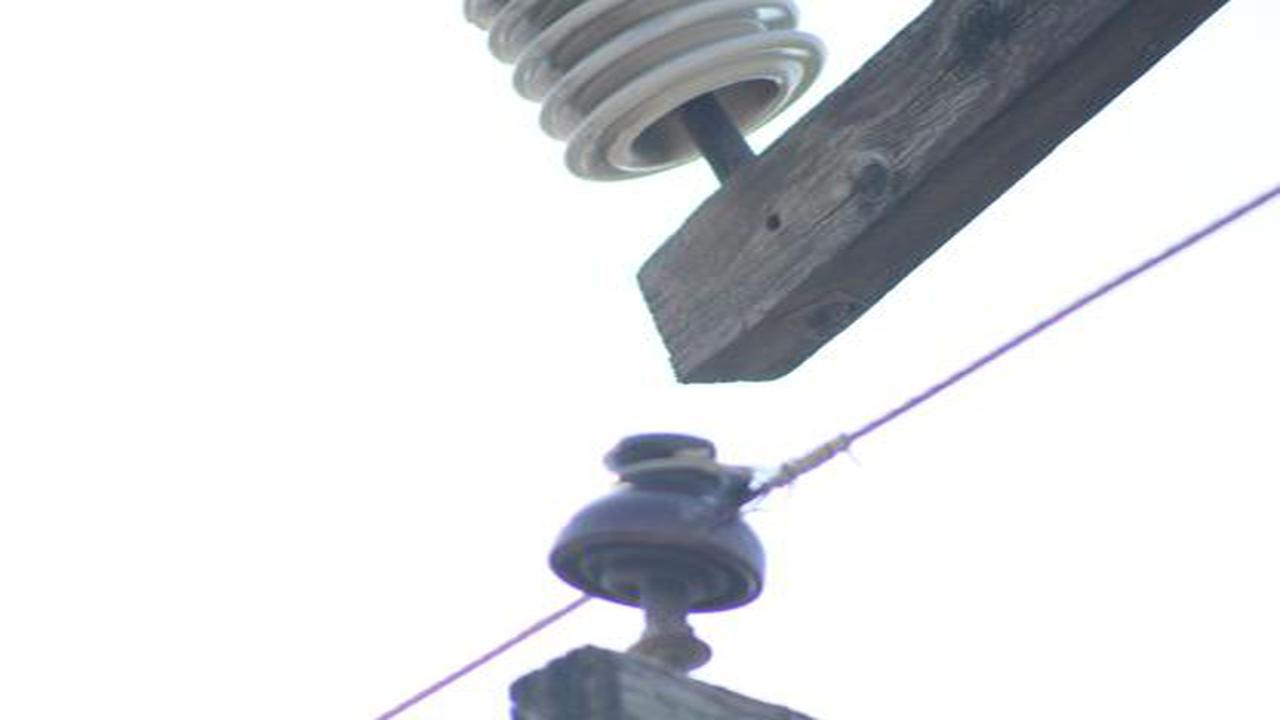insulator_pin: (544, 426, 772, 623)
